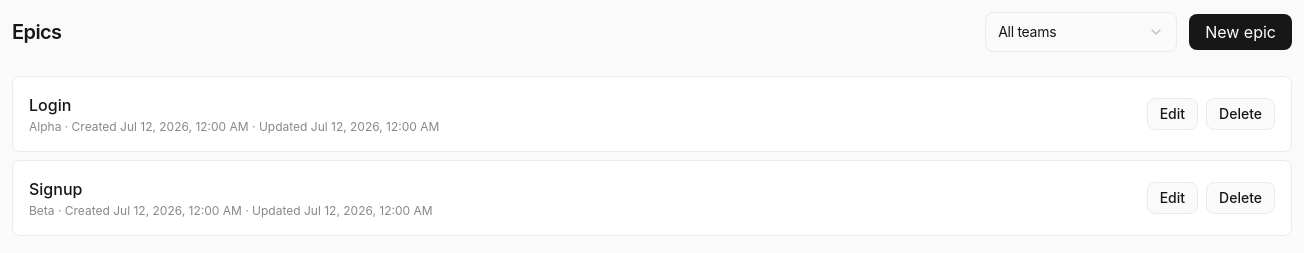
Test: EpicsPage › filter_shouldNarrowListToSelectedTeam
Expected: the text "Login" is shown, [29,95,71,115]
Expected: the text "Signup" is shown, [29,179,82,199]
What coordinates should you click on to do the following:
click the dropdown named "filter by team"
I would click on:
 (1081, 32)
Its box is [985,12,1177,52].
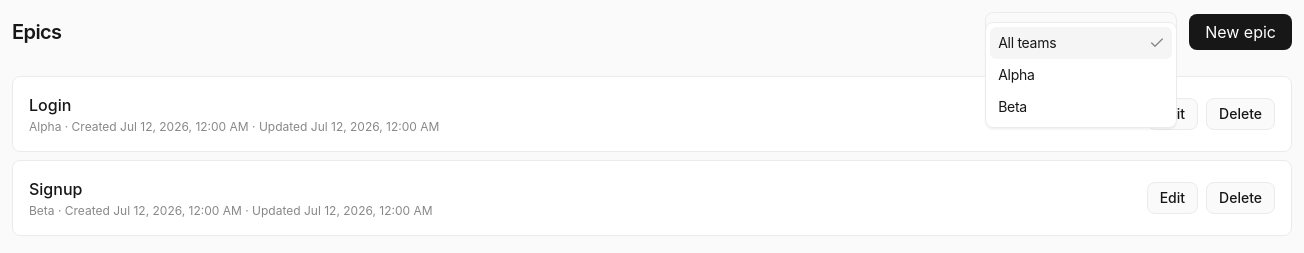
What coordinates should you click on to do the following:
click the option "Alpha"
I would click on:
 (1016, 74)
Its box is [998,66,1035,83].
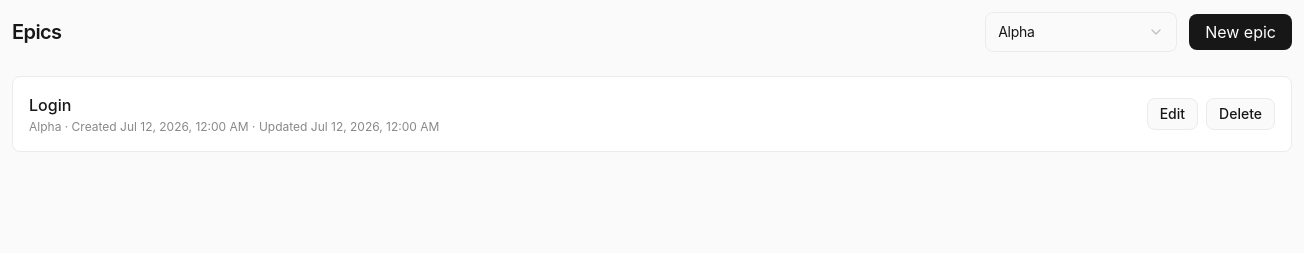
Expected: the text "Login" is shown, [29,95,71,115]
Expected: the text "Signup" is gone
